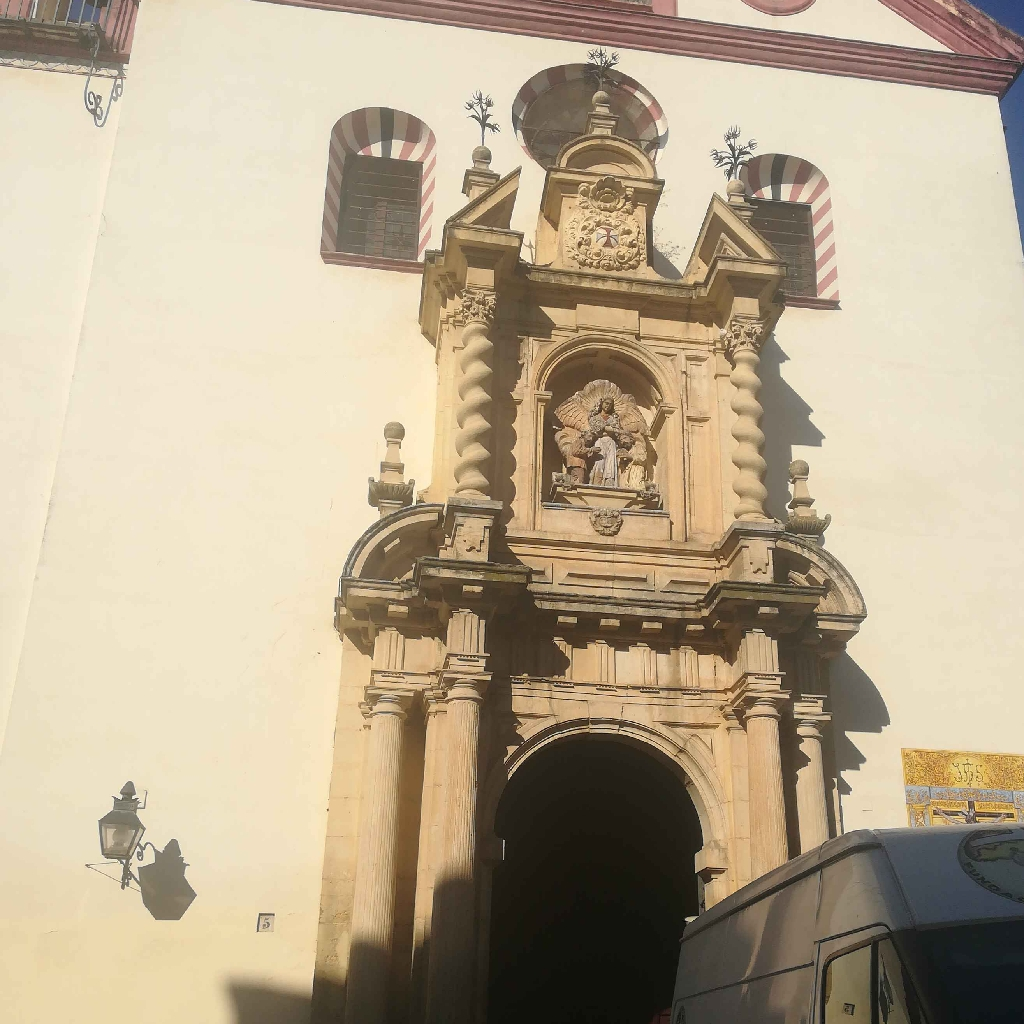arco-medio-punto: (483, 726, 730, 881), (536, 340, 669, 431)
columna-salomonica: (446, 310, 499, 514), (724, 337, 769, 524)
fronton-partido: (335, 503, 873, 621), (439, 166, 798, 287)
